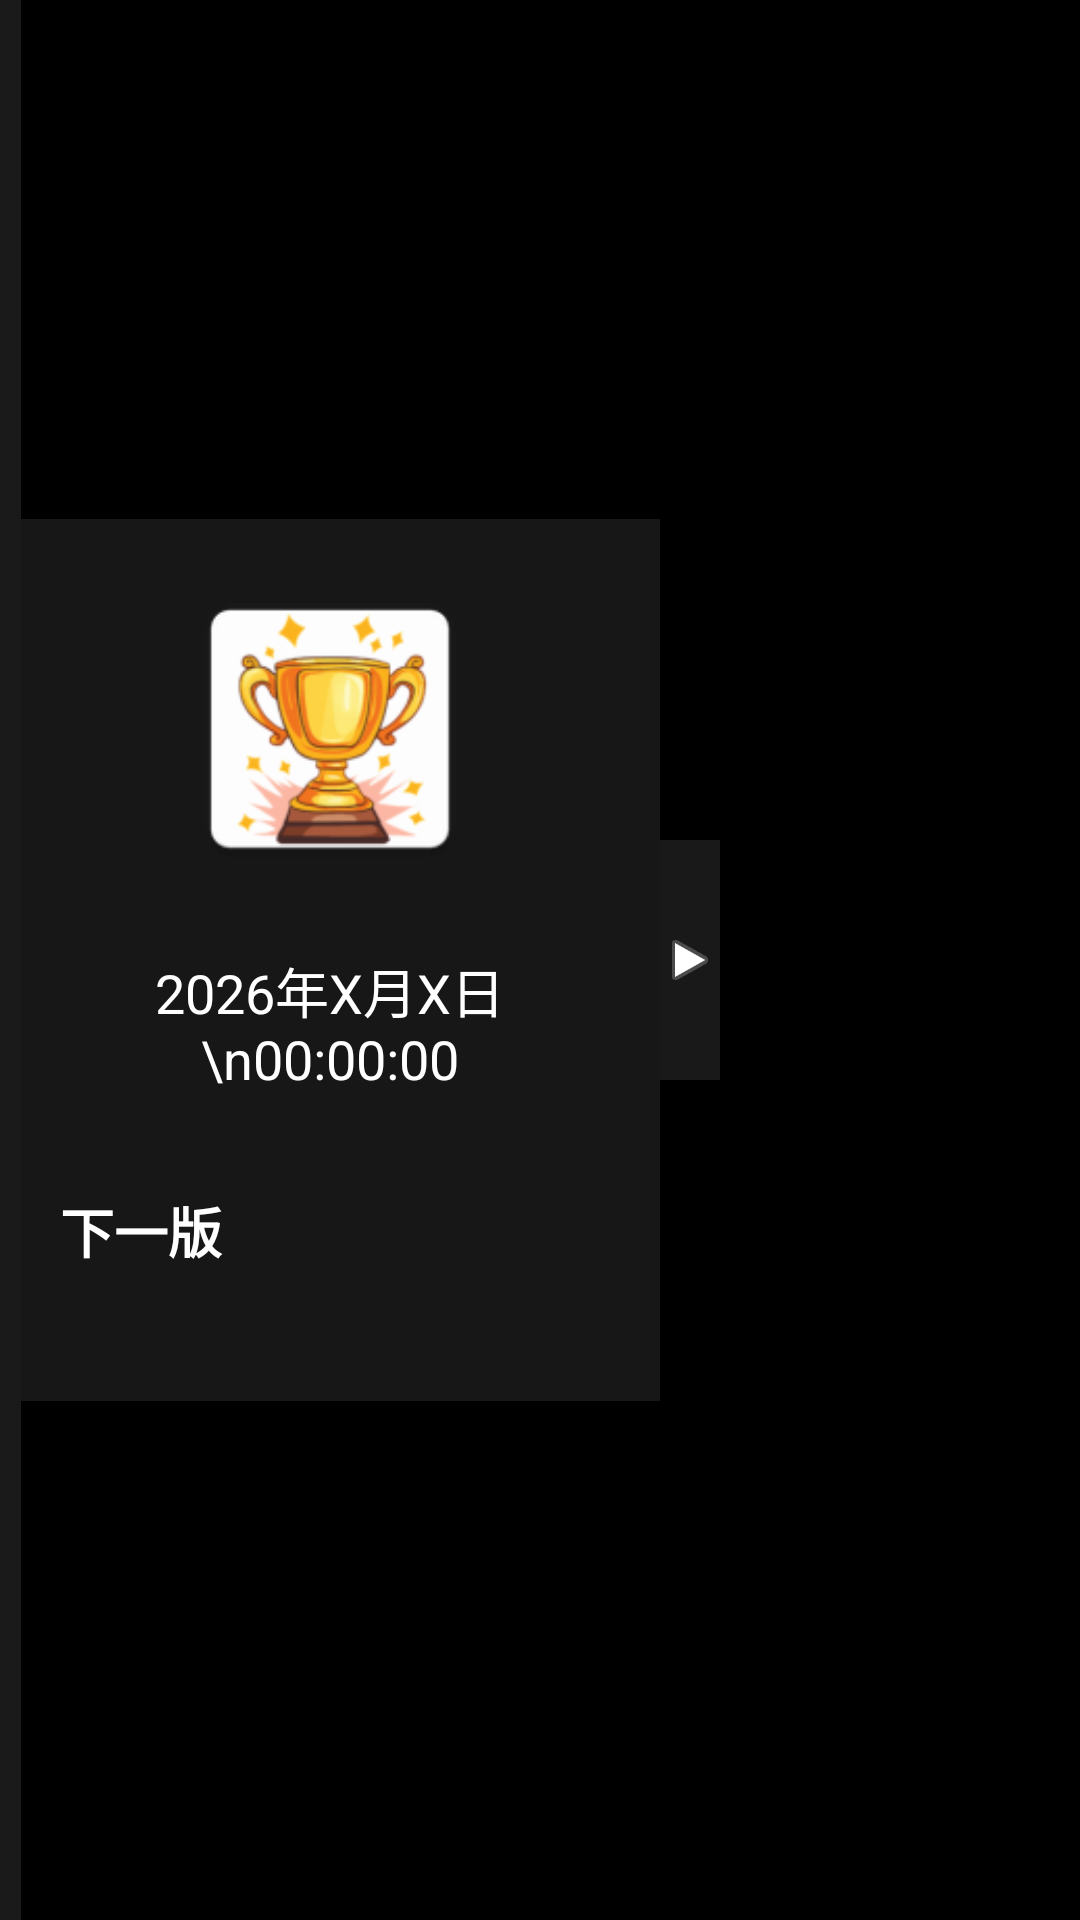

Named icons in this screenshot (1080 × 1920) and their centers, point (x, y):
play: point (690, 960)
